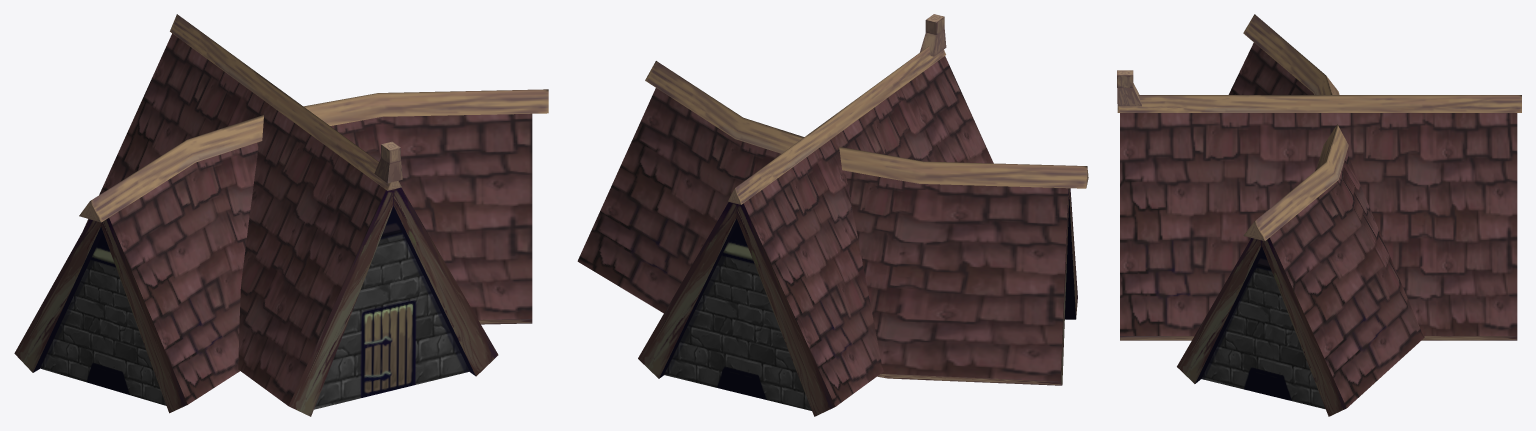
The model's file is crosshouse.FBX.
3 renders of one model, left to right at view 1: azimuth 30°, elevation 25°; view 2: azimuth 150°, elevation 25°; view 3: azimuth 270°, elevation 25°, orthographic. The views are drawn at different scales.
Parts seen in each view (by area): view 1: Box002, Box001; view 2: Box002, Box001; view 3: Box001, Box002.
Boxes of the visible parts, x1,y1,x2,y2 form: Box002: (14,89,548,413); Box001: (83,14,498,416); Box002: (577,61,1088,385); Box001: (638,14,993,416); Box001: (1117,70,1521,340); Box002: (1177,14,1424,416).
Size of the model in its own units: 114 by 52.34 by 83.22.
